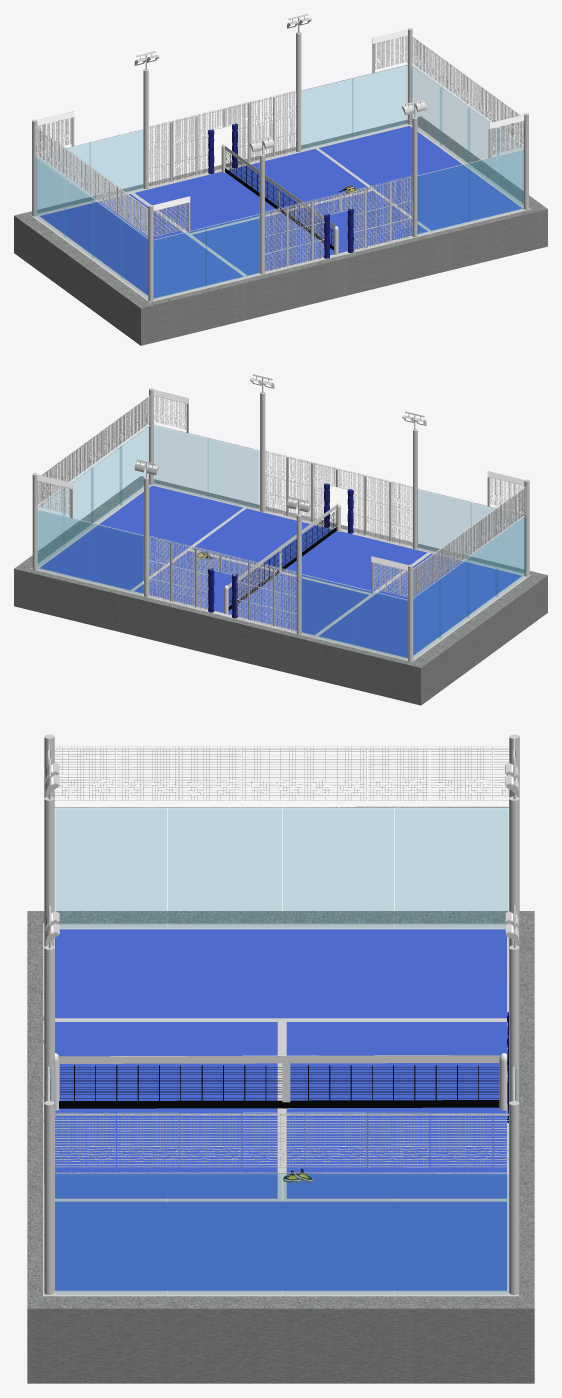
The picture shows the model from 3 angles, top to bottom: view 1: azimuth 30°, elevation 25°; view 2: azimuth 150°, elevation 25°; view 3: azimuth 270°, elevation 25°; orthographic projection. The views are drawn at different scales.
Visible parts, largest first — view 1: CampoPadel, VetroPadel.001, RetePadel.003, ReteCampoPiccolo1.020, ReteCampoPiccolo1.002, ReteCampoPiccolo1.003, ReteCampoPiccolo1.004, Retecampo, BorderBalloon.001_Plane.004; view 2: CampoPadel, VetroPadel.001, RetePadel.003, ReteCampoPiccolo1.002, ReteCampoPiccolo1.020, ReteCampoPiccolo1.003, ReteCampoPiccolo1.004, Retecampo, BorderBalloon.001_Plane.004; view 3: CampoPadel, VetroPadel.001, Retecampo, ReteCampoPiccolo1.004, RetePadel.003, ReteCampoPiccolo1.003.
Boxes of the visible parts, x1,y1,x2,y2 form: CampoPadel: [14, 116, 547, 345]; VetroPadel.001: [35, 65, 523, 299]; RetePadel.003: [32, 28, 528, 301]; ReteCampoPiccolo1.020: [153, 121, 523, 272]; ReteCampoPiccolo1.002: [37, 36, 407, 187]; ReteCampoPiccolo1.003: [35, 127, 148, 235]; ReteCampoPiccolo1.004: [411, 35, 523, 144]; Retecampo: [221, 144, 338, 254]; BorderBalloon.001_Plane.004: [208, 123, 353, 258]; CampoPadel: [14, 476, 547, 705]; VetroPadel.001: [37, 425, 525, 659]; RetePadel.003: [32, 388, 529, 661]; ReteCampoPiccolo1.002: [37, 481, 407, 632]; ReteCampoPiccolo1.020: [153, 396, 523, 547]; ReteCampoPiccolo1.003: [413, 487, 526, 596]; ReteCampoPiccolo1.004: [37, 395, 150, 504]; Retecampo: [224, 503, 340, 613]; BorderBalloon.001_Plane.004: [208, 483, 353, 618]; CampoPadel: [27, 911, 534, 1383]; VetroPadel.001: [50, 808, 516, 1294]; Retecampo: [54, 1053, 507, 1117]; ReteCampoPiccolo1.004: [54, 1112, 508, 1167]; RetePadel.003: [44, 734, 519, 1295]; ReteCampoPiccolo1.003: [54, 746, 509, 800].
Size of the model in its own units: 4.93 by 1.99 by 2.66.
Materials: 10 (2 with a texture image).
